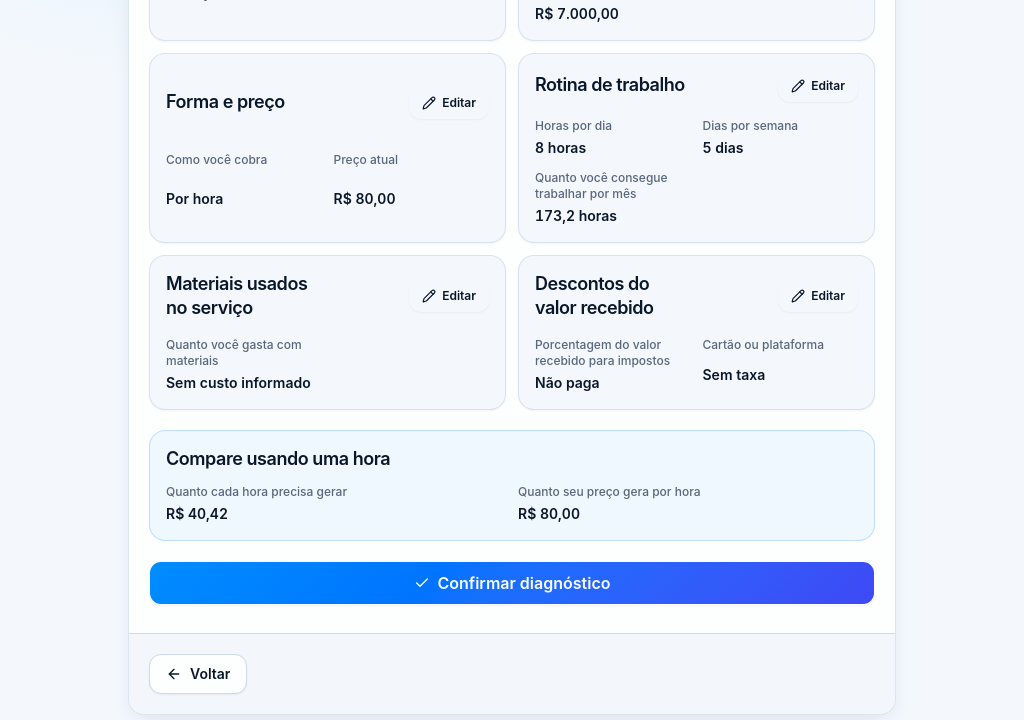
it: ServiceDiagnosisWizard › offers the plans when the free diagnosis was already used
The width and height of the screenshot is (1024, 720).
(page scrolled)
What coordinates should you click on to do the following:
click the button "Confirmar diagnóstico"
I would click on:
 (512, 583)
Its box is [149,561,875,605].
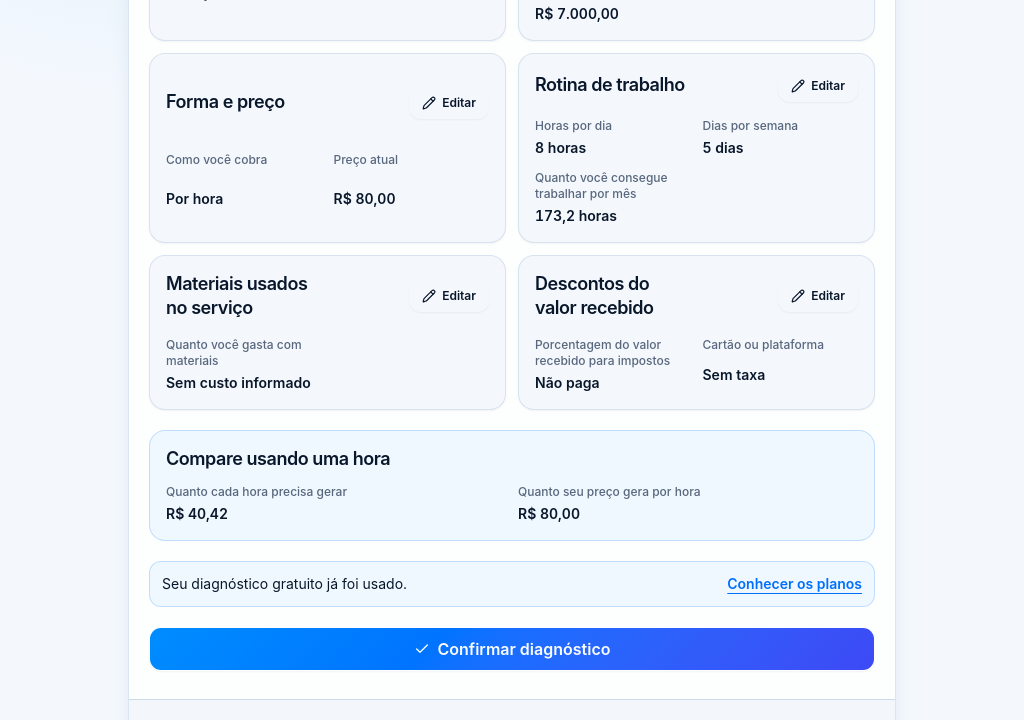
Now the message shows "Seu diagnóstico gratuito já foi usado.", box [162,575,407,592]
